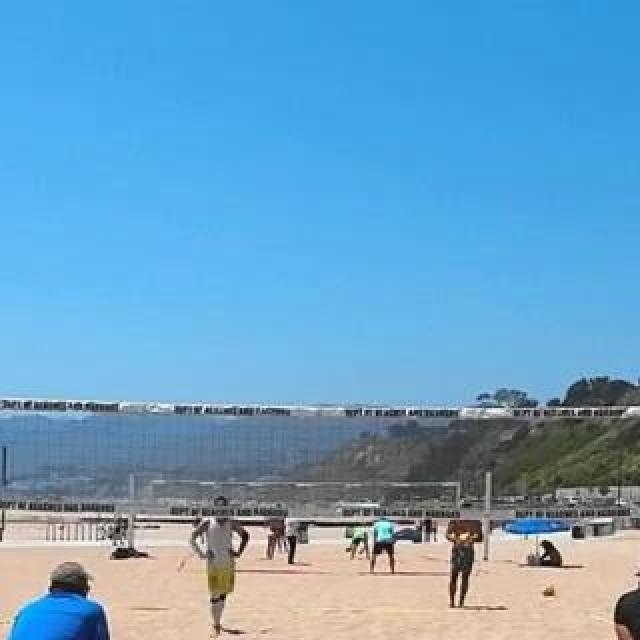volleyball: (459, 531, 471, 545), (543, 586, 555, 598)
